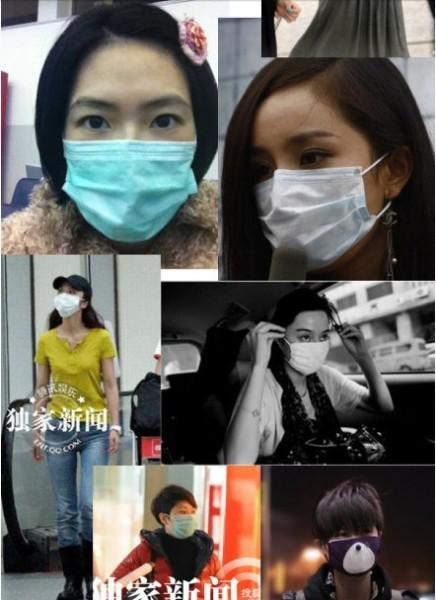OK: (59, 93, 207, 241), (245, 127, 388, 270), (324, 517, 379, 572), (287, 326, 335, 374), (164, 504, 200, 540), (53, 283, 86, 316)
